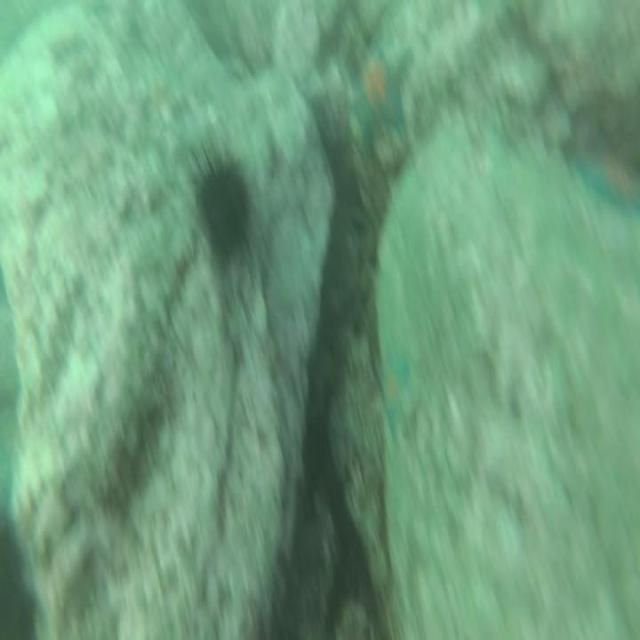echinus: (184, 138, 255, 284)
starfish: (345, 39, 414, 163), (573, 142, 640, 226), (374, 343, 412, 434)
